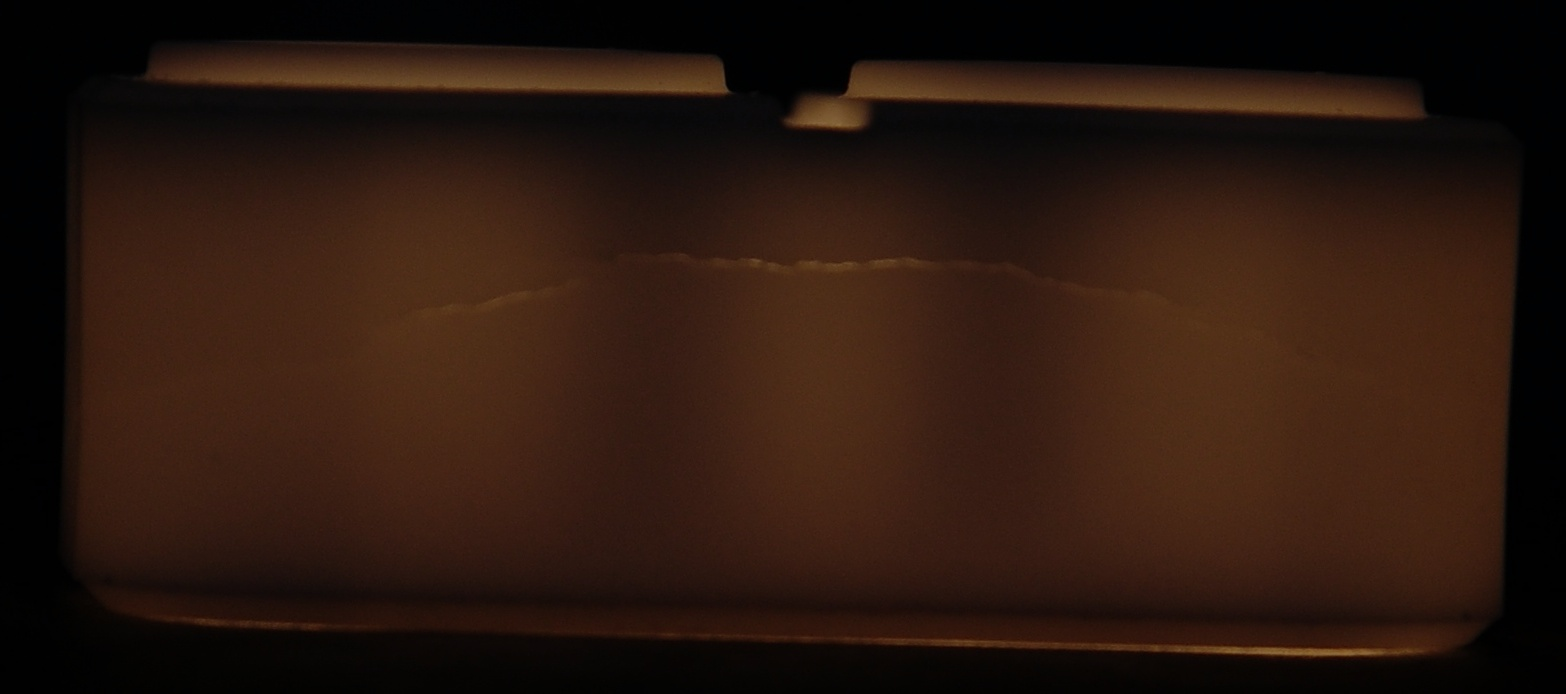flaw: (266, 225, 1380, 393)
